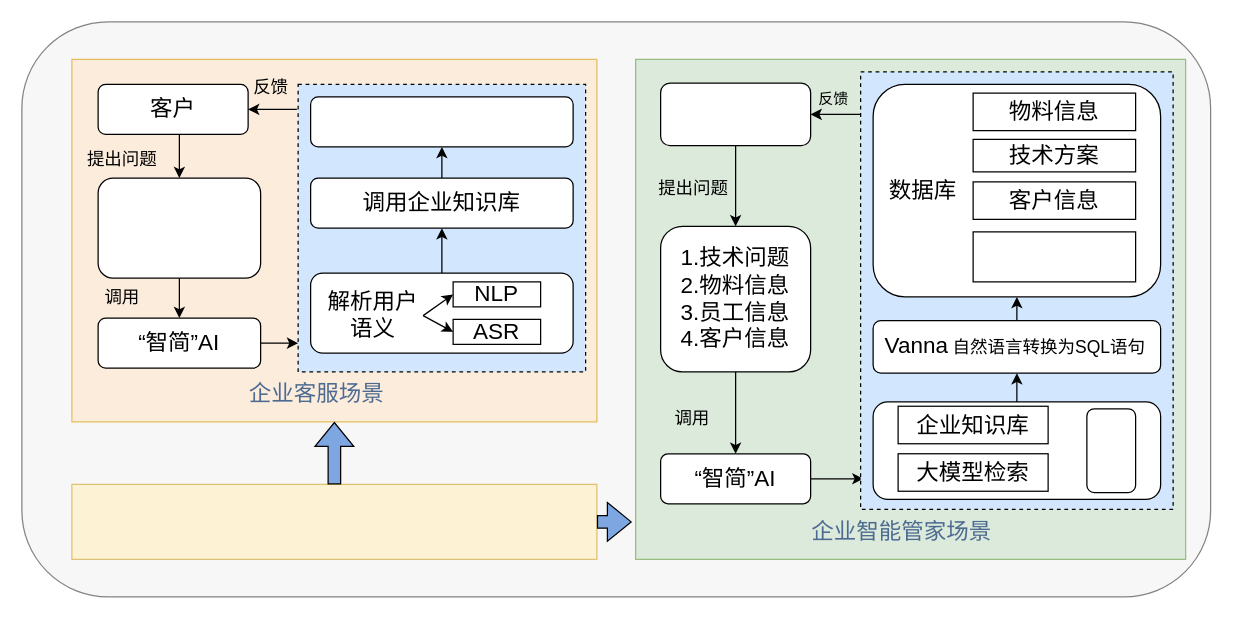
This 1233x619 diagram has some shape labels left out. The centre of each missing label's shape, as x and y in pixels:
1.售前咨询 2.售后技术问题: the point at 179,227
R A G: the point at 1111,450
员工工作 日志信息: the point at 1054,256
归集客户信息至知识库: the point at 441,121
技术人员/ 管理人员: the point at 735,114
支持用户多模态输入（文字、语音、 3D虚拟数字人视频）: the point at 334,521
